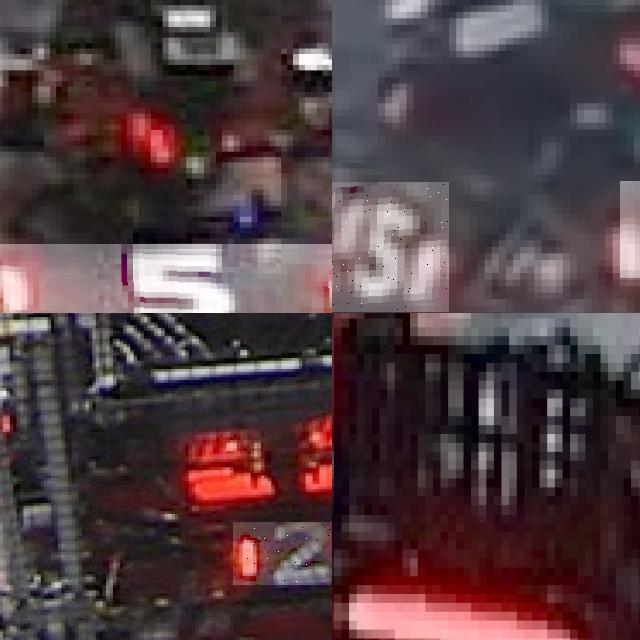R2: (233, 522, 332, 585)
R5: (0, 243, 332, 313), (332, 181, 449, 312)
